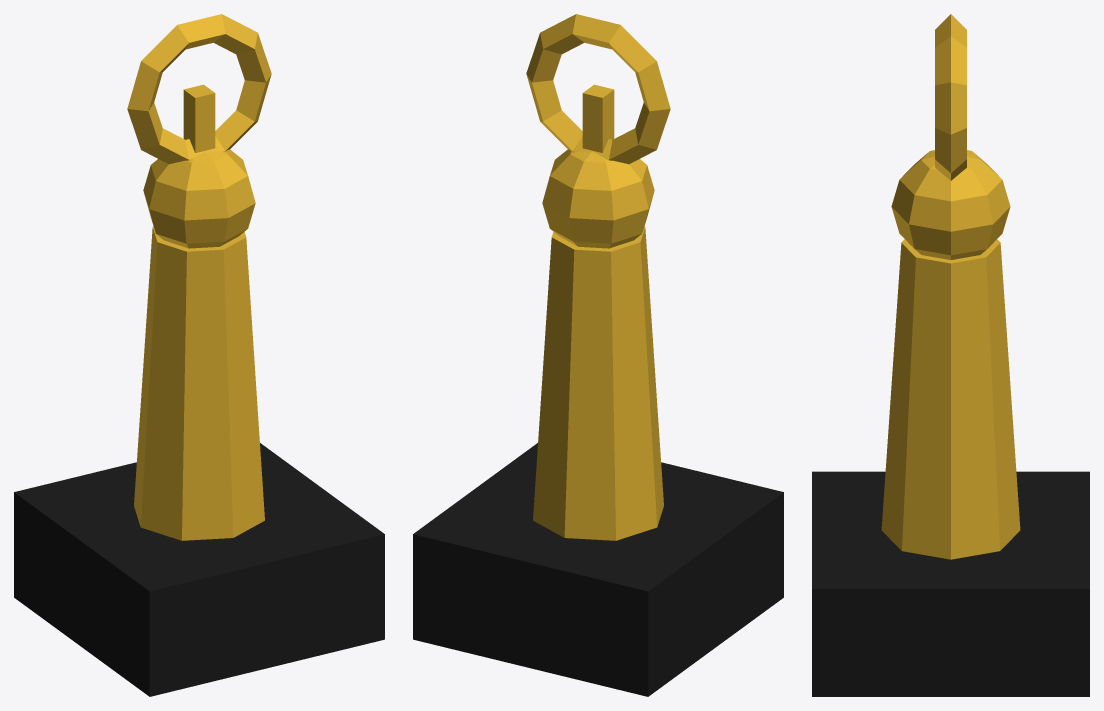
Rendered from award_statuette.glb.
3 renders of one model, left to right at view 1: azimuth 30°, elevation 25°; view 2: azimuth 150°, elevation 25°; view 3: azimuth 270°, elevation 25°, orthographic. The views are drawn at different scales.
Parts seen in each view (by area): view 1: base_statuette_base, body_statuette_gold, reel_statuette_gold, head_statuette_gold, arms_statuette_gold; view 2: base_statuette_base, body_statuette_gold, reel_statuette_gold, head_statuette_gold, arms_statuette_gold; view 3: base_statuette_base, body_statuette_gold, head_statuette_gold, reel_statuette_gold.
Part boxes in pixels (x1,y1,x2,y2): base_statuette_base: (14,443,384,696); body_statuette_gold: (134,226,264,540); reel_statuette_gold: (127,14,271,164); head_statuette_gold: (143,149,255,248); arms_statuette_gold: (183,84,215,152); base_statuette_base: (413,443,783,696); body_statuette_gold: (533,226,663,540); reel_statuette_gold: (526,14,670,164); head_statuette_gold: (542,149,654,248); arms_statuette_gold: (582,84,614,152); base_statuette_base: (812,471,1089,696); body_statuette_gold: (881,239,1020,559); head_statuette_gold: (891,150,1010,259); reel_statuette_gold: (935,14,966,180).
Bounding box in the file's own units: 0.14 × 0.3409 × 0.14.
